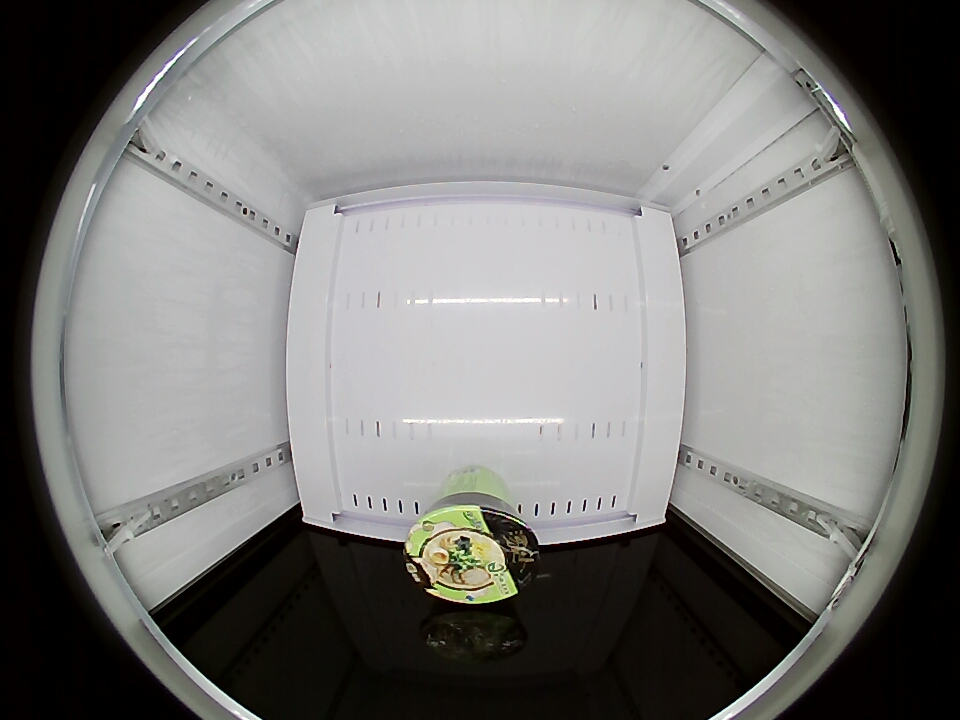tangdaren: (404, 492, 539, 605)
